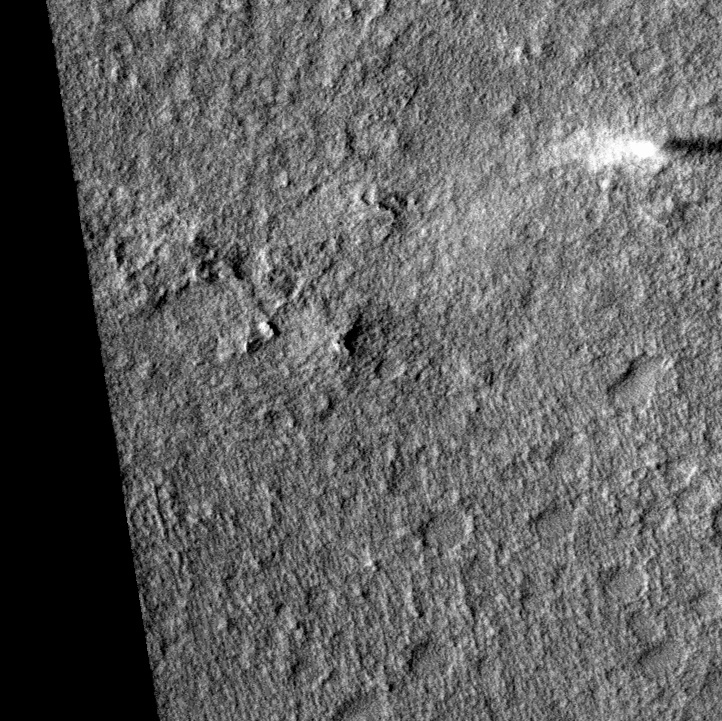dust_devil: (583, 131, 722, 178)
